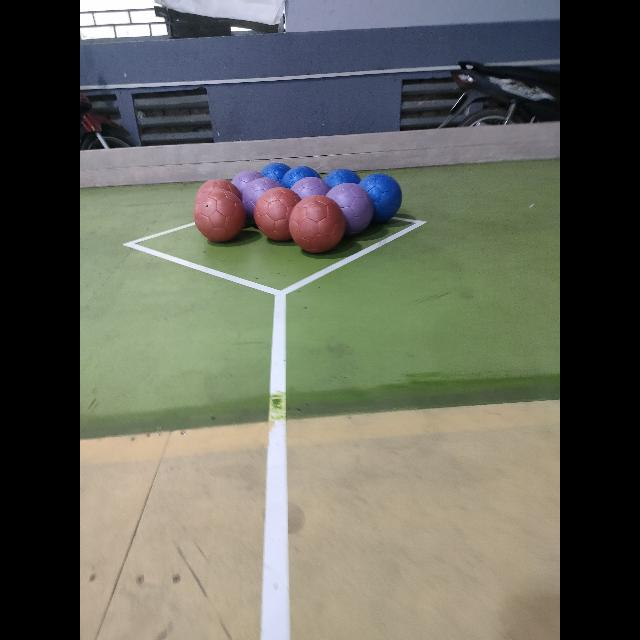B: (358, 174, 402, 222), (280, 167, 320, 190), (325, 168, 361, 188)
P: (324, 183, 374, 234), (242, 177, 280, 219)
R: (289, 194, 345, 252), (250, 187, 302, 246), (194, 192, 246, 240)
